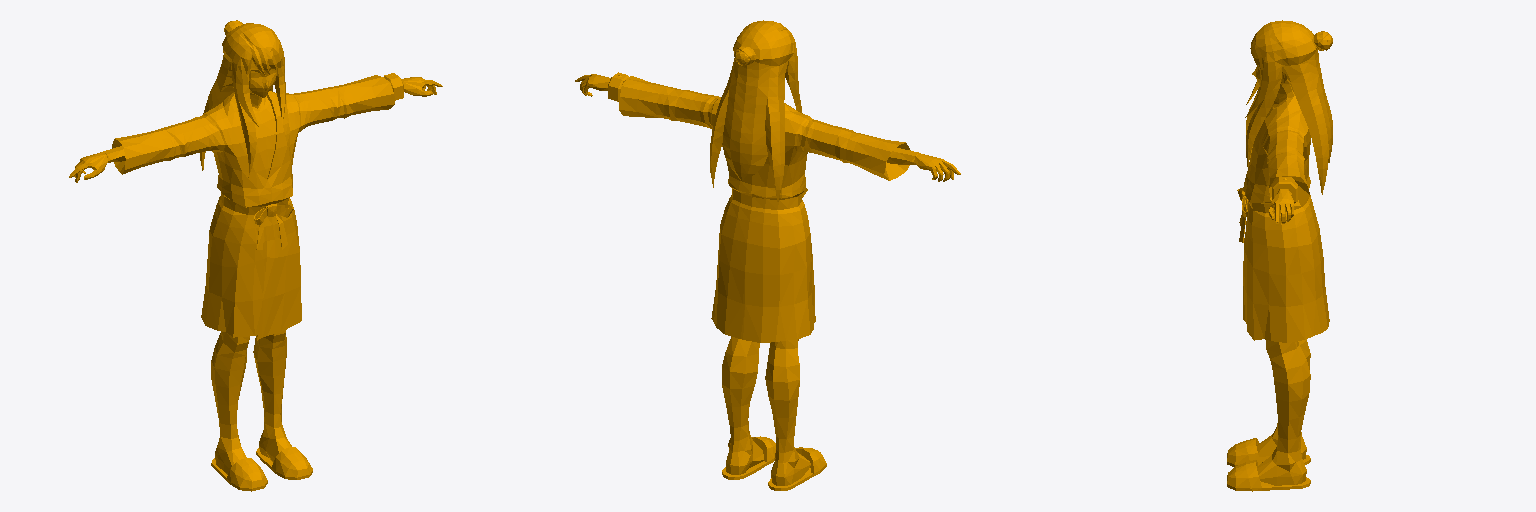
robot.urdf — mesh_object:
<?xml version="1.0" ?>
            <robot name="mesh_object">
            <link name="base">
                <visual>
                    <geometry>
                        <mesh filename="2.obj" scale="0.1 0.1 0.1"/>
                    </geometry>
                </visual>
                <collision>
                    <geometry>
                        <mesh filename="2.obj" scale="0.1 0.1 0.1"/>
                    </geometry>
                </collision>
                <inertial>
                    <origin xyz="0 0 0.053336413500000006" rpy="0 0 0"/>
                    <mass value="0.5"/>
                    <inertia ixx="0.01" iyy="0.01" izz="0.01" ixy="0" ixz="0" iyz="0"/>
                </inertial>
            </link>
            </robot>
        

--- Facts derived from the render (not from the file) ---
Views: 3 orthographic renders of the robot side by side, from view 1: azimuth 30°, elevation 25°; view 2: azimuth 150°, elevation 25°; view 3: azimuth 270°, elevation 25°.
Robot: mesh_object — 1 links, 0 joints (none); root link base; default pose: all joints at 0.
Visible links, largest first — view 1: base; view 2: base; view 3: base.
Link boxes in pixels (<box>): base: <box>69,20,442,491</box>; base: <box>575,20,960,490</box>; base: <box>1227,20,1332,491</box>.
Size in the robot's own frame: 0.0952 by 0.023 by 0.1067 metres.
1 mesh visuals loaded from 1 distinct referenced files (1 OBJ).
